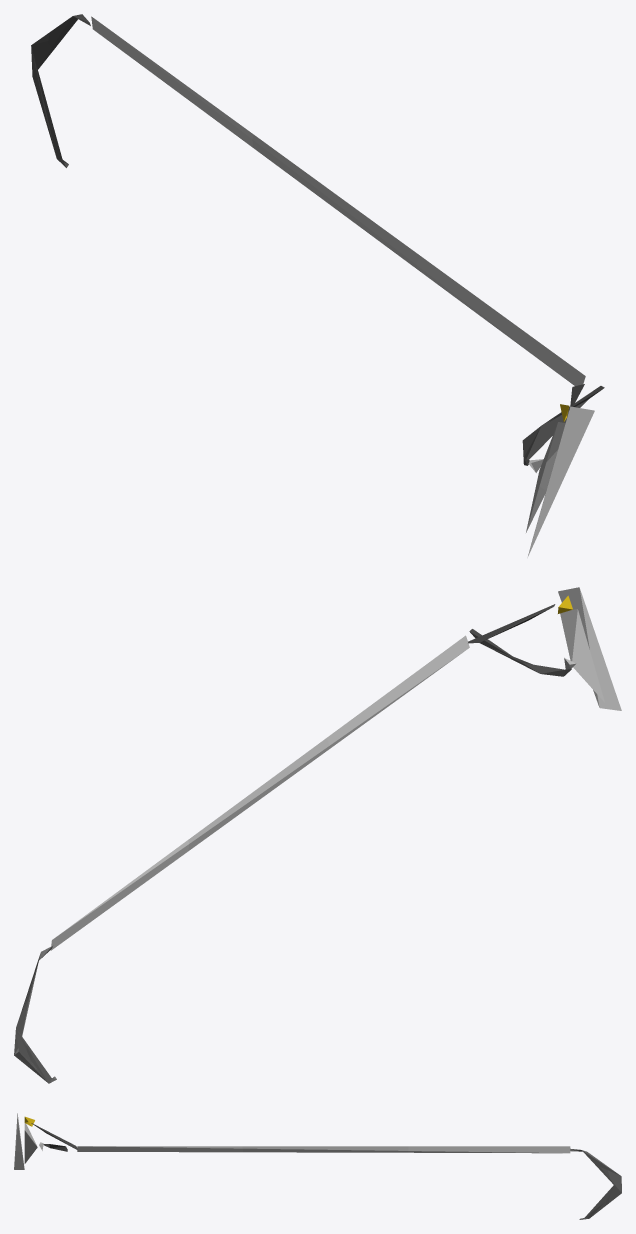
The model's file is qt-jk-014-geode.glb.
3 views of the same model, one above another, from view 1: azimuth 30°, elevation 25°; view 2: azimuth 150°, elevation 25°; view 3: azimuth 270°, elevation 25° (orthographic). The views are drawn at different scales.
Parts seen in each view (by area): view 1: Node; view 2: Node; view 3: Node.
Boxes of the visible parts, x1,y1,x2,y2 form: Node: [31, 14, 604, 557]; Node: [14, 587, 621, 1083]; Node: [14, 1113, 621, 1219].
Size of the model in its own units: 0.2442 by 0.3427 by 2.02.
1 material, 1 textured.
